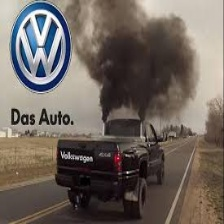smoke: (75, 1, 201, 112)
